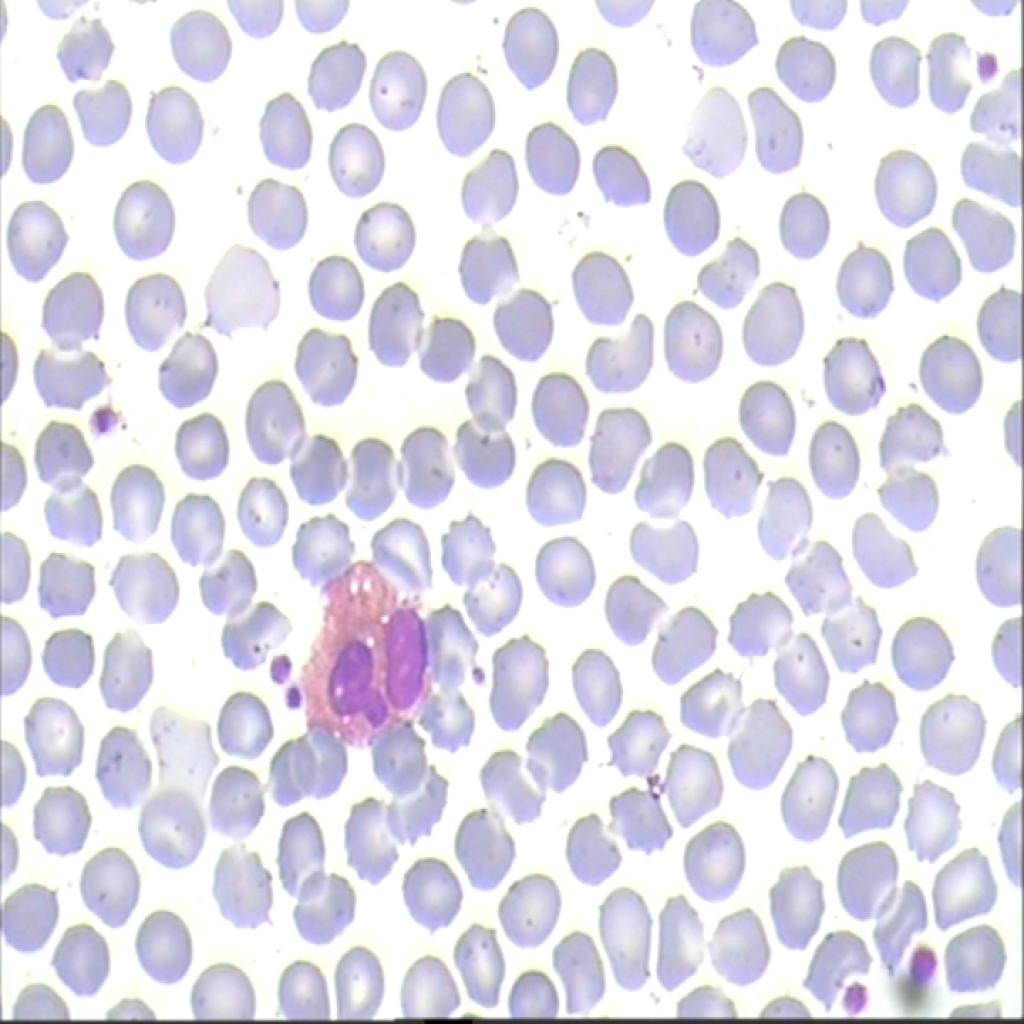Eosinofil: (287, 549, 435, 759)
Platelet: (960, 38, 1008, 94), (88, 389, 120, 466), (456, 647, 495, 701), (258, 636, 290, 684), (910, 939, 943, 981), (845, 974, 873, 1022), (286, 684, 307, 716)
